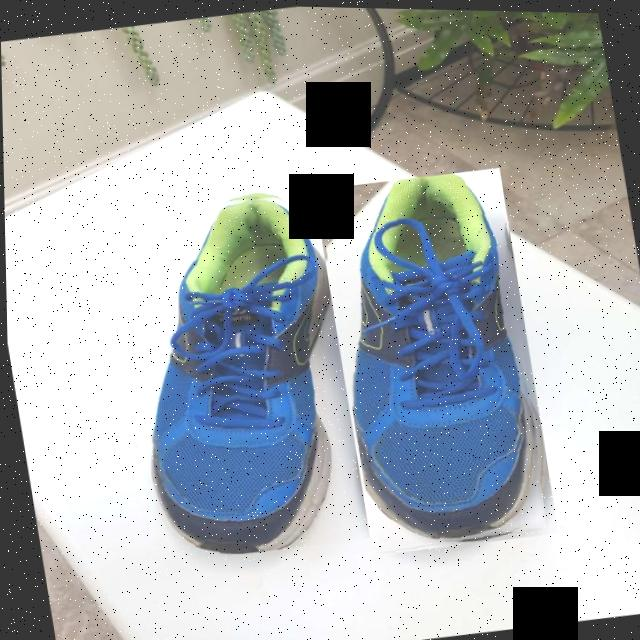shoe: (105, 179, 372, 566), (313, 162, 557, 558)
